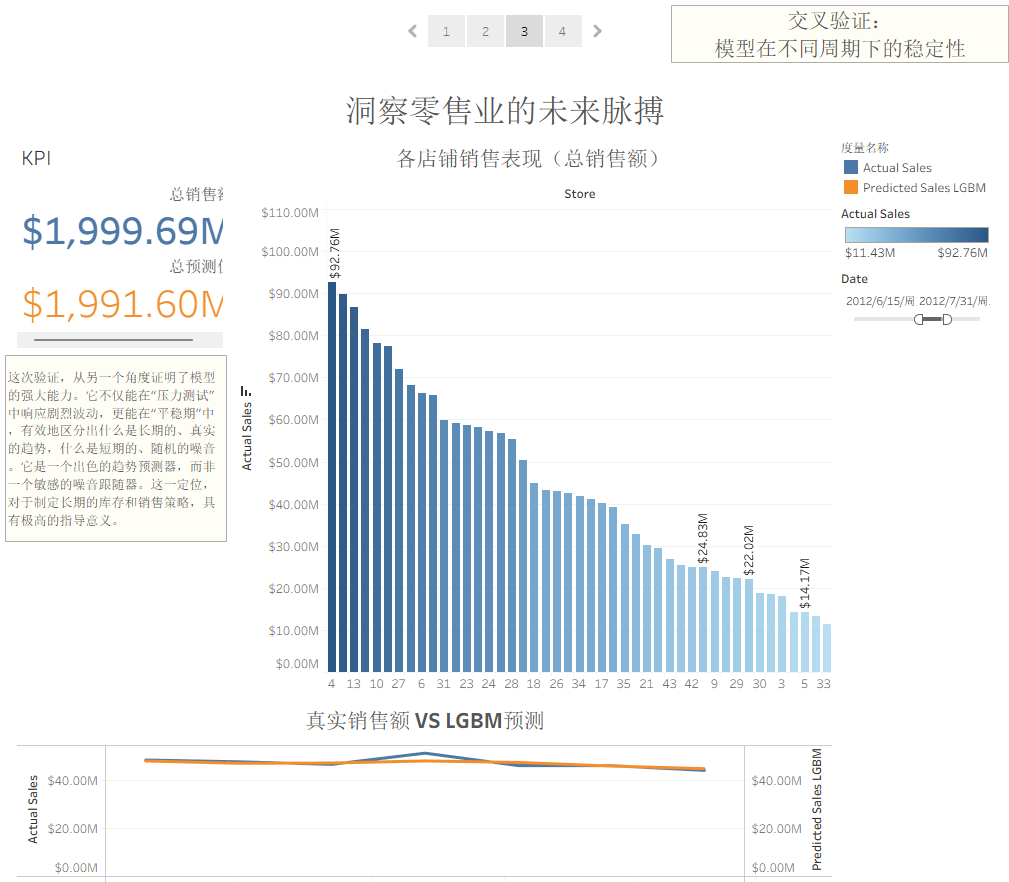

Layout of this report page (visuals, bound fields, positions):
{"tool":"tableau","page":{"name":"仪表板 1","canvas":[1000,1000],"units":"permille","ordinal":0},"visuals":[{"type":"title","box":[5.1,8.9,989.8,57.8]},{"type":"worksheet","title":"KPI","mark":"Automatic","box":[5.1,66.7,230.7,648.5]},{"type":"worksheet","title":"工作表 2","mark":"Automatic","rows":["Actual_Sales"],"cols":["Store"],"box":[235.8,66.7,656.9,648.5]},{"type":"legend","title":"工作表 1","param":"[federated.1p1oq4f16leaxy1gujmzi1e0lf9b].[:Measure Names]","box":[892.6,66.7,102.2,73.4]},{"type":"legend","title":"工作表 2","param":"[federated.1p1oq4f16leaxy1gujmzi1e0lf9b].[sum:Actual_Sales:qk]","box":[892.6,140.2,102.2,72.3]},{"type":"filter","title":"工作表 1","param":"[federated.1p1oq4f16leaxy1gujmzi1e0lf9b].[none:Date:qk]","box":[892.6,212.5,102.2,76.8]},{"type":"worksheet","title":"工作表 1","mark":"Automatic","rows":["Actual_Sales","Predicted_Sales_LGBM"],"cols":["Date"],"box":[5.1,715.2,887.5,275.9]}]}

Visuals, with their boxes on the dashboard's canvas, which has no fixed pixel size, in thousandths of its width and height (x1, y1, x2, y2). These are canvas units, not pixel positions in the 1009x882 screenshot, which may show the page scaled, cropped or inside an application window:
title: (x1=5, y1=9, x2=995, y2=67)
"KPI" worksheet: (x1=5, y1=67, x2=236, y2=715)
"工作表 2" worksheet: (x1=236, y1=67, x2=893, y2=715)
"工作表 1" legend: (x1=893, y1=67, x2=995, y2=140)
"工作表 2" legend: (x1=893, y1=140, x2=995, y2=212)
"工作表 1" filter: (x1=893, y1=212, x2=995, y2=289)
"工作表 1" worksheet: (x1=5, y1=715, x2=893, y2=991)
